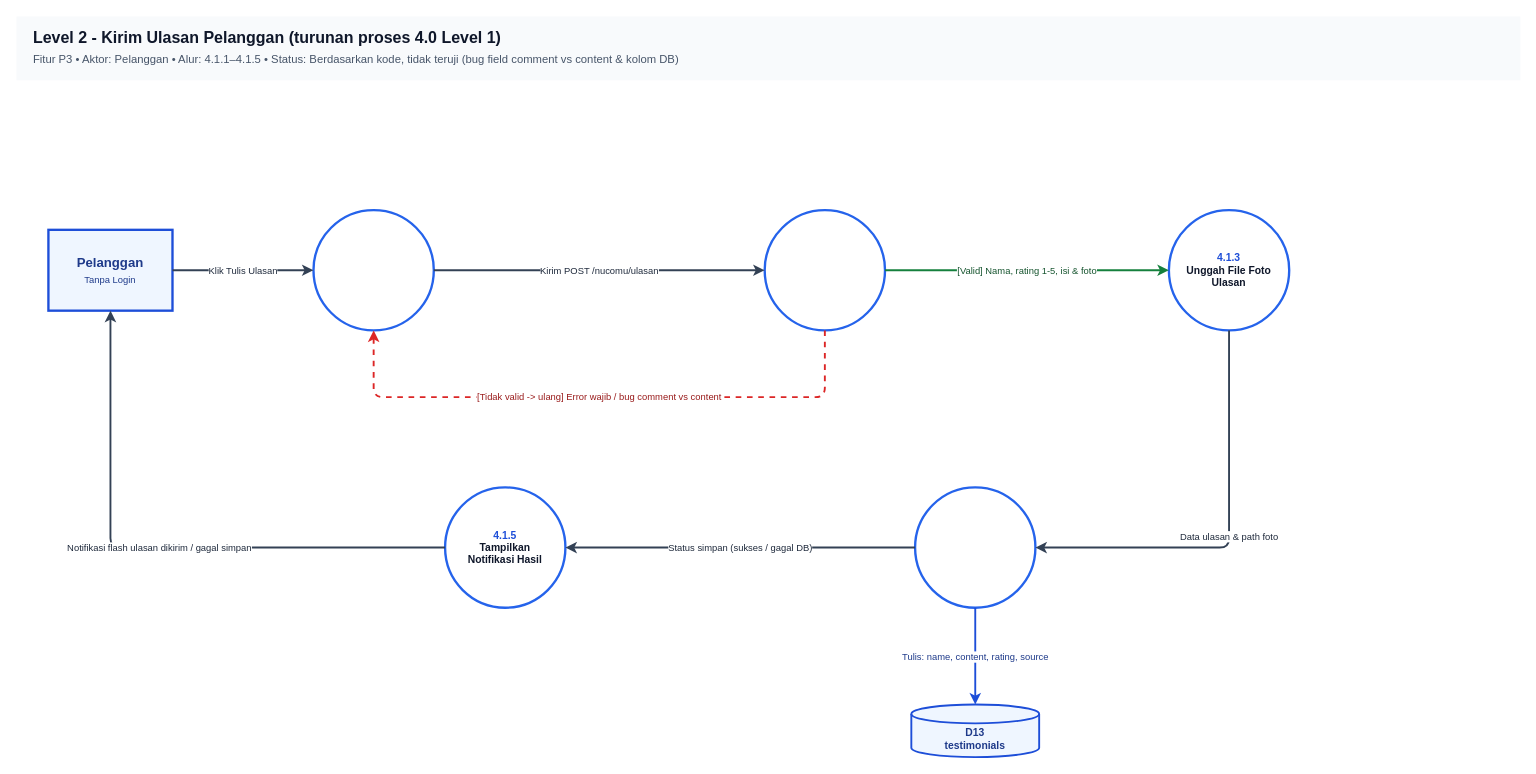
Image size: 1536x774. Some labels were removed from this diagram. Each missing label, with the centre of its shape:
"4.1.1 Buka Modal & Isi Ulasan + Foto" belongs at point (373, 269).
"4.1.2 Validasi Rating, Teks & File Foto" belongs at point (824, 269).
"4.1.4 Simpan Ulasan ke Basis Data" belongs at point (974, 547).
